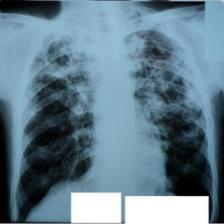tuberculosis: (7, 25, 219, 223)
